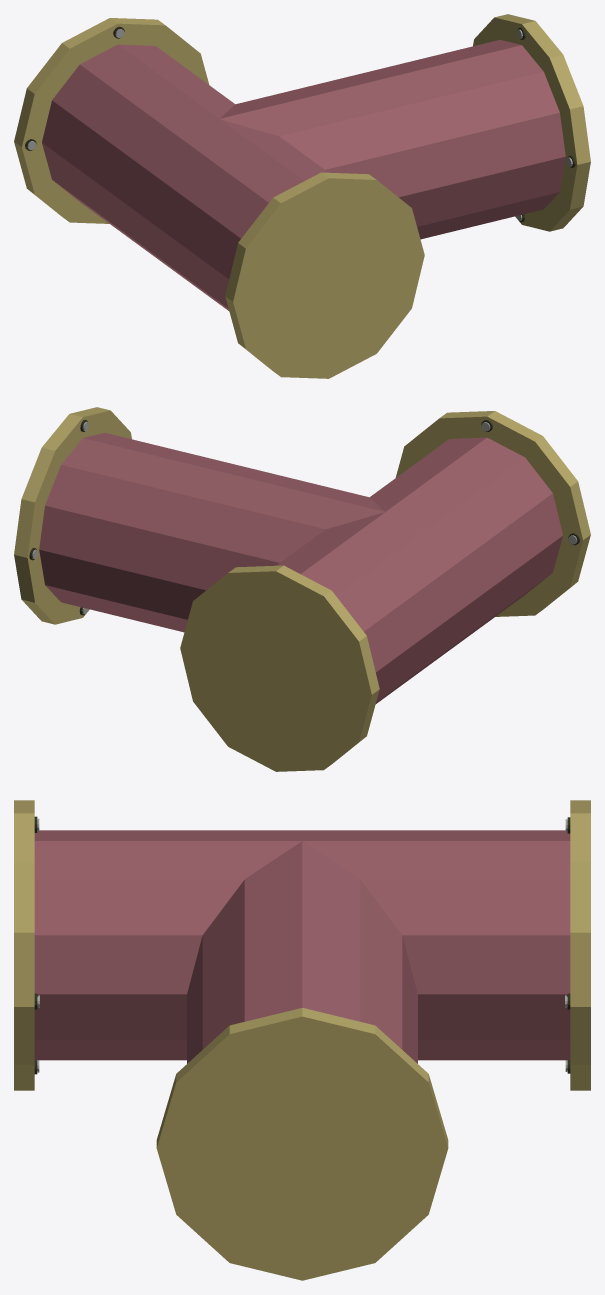
Rendered from Pipe_Three_Head.fbx.
3 renders of one model, top to bottom at view 1: azimuth 30°, elevation 25°; view 2: azimuth 150°, elevation 25°; view 3: azimuth 270°, elevation 25°, orthographic. The views are drawn at different scales.
Visible parts, largest first — view 1: Pipe_Three_Head, Cylinder.047, Cylinder.052, Cylinder.073; view 2: Pipe_Three_Head, Cylinder.052, Cylinder.047, Cylinder.073; view 3: Pipe_Three_Head, Cylinder.073, Cylinder.047, Cylinder.052.
Boxes of the visible parts, box(x1,y1,x2,y2) form: Pipe_Three_Head: box(42, 40, 565, 310); Cylinder.047: box(225, 172, 424, 378); Cylinder.052: box(14, 18, 209, 223); Cylinder.073: box(473, 14, 590, 231); Pipe_Three_Head: box(39, 433, 562, 703); Cylinder.052: box(180, 565, 379, 771); Cylinder.047: box(395, 411, 590, 616); Cylinder.073: box(14, 407, 131, 624); Pipe_Three_Head: box(34, 830, 570, 1063); Cylinder.073: box(156, 1008, 448, 1280); Cylinder.047: box(14, 800, 37, 1090); Cylinder.052: box(567, 800, 590, 1090).
Size of the model in its own units: 32.58 by 15.16 by 30.
